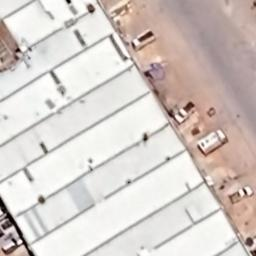pickup: (229, 182, 254, 206), (176, 100, 198, 124)
truck: (196, 126, 230, 158), (131, 27, 156, 52)
van: (0, 236, 24, 256)
